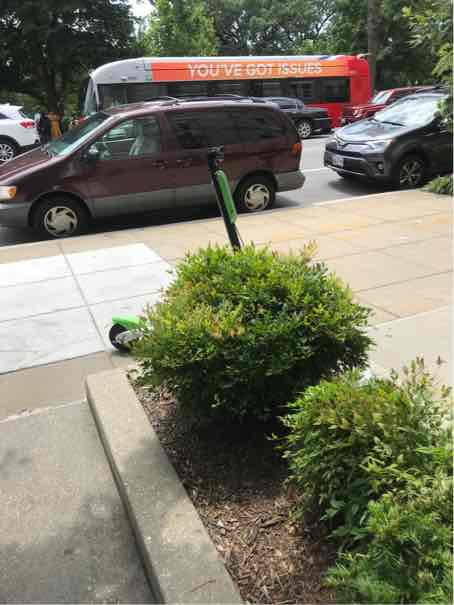scooter: (146, 95, 349, 270)
